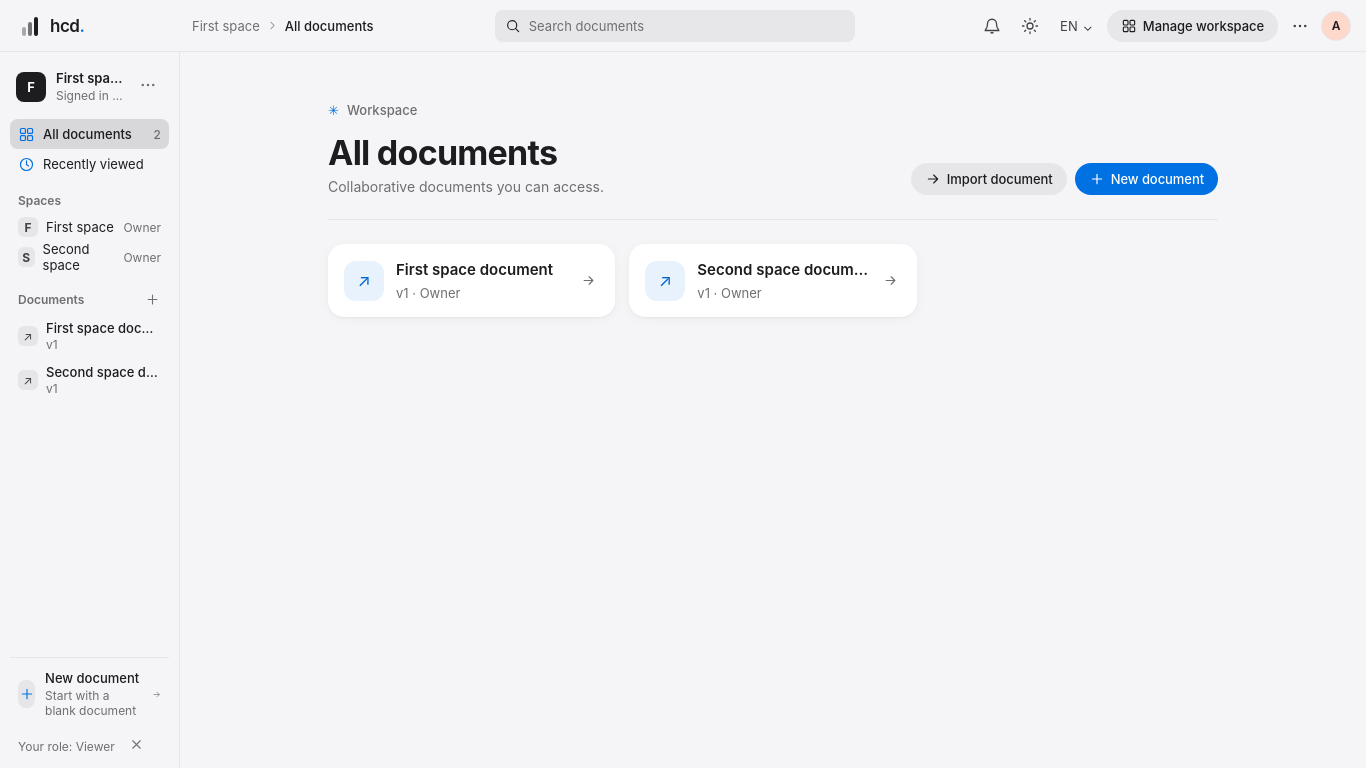
it: C2 the new document button and refresh preserve the new document route
Click the button "New document".
click(1146, 179)  # box [1075,163,1218,195]
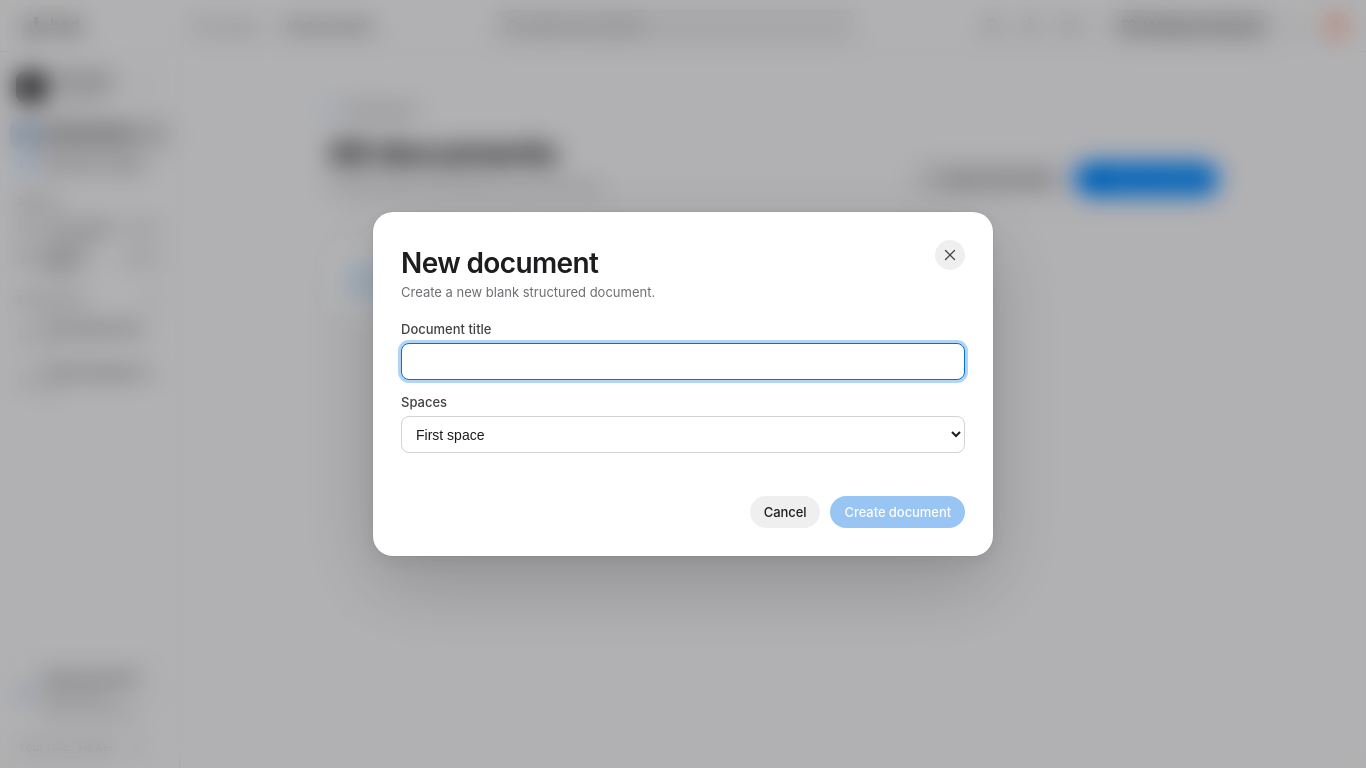
expect the form with class "create-modal" is shown: met, box [373,212,993,556]
